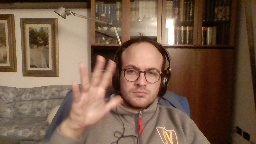Mano_aperta: (66, 53, 122, 128)
